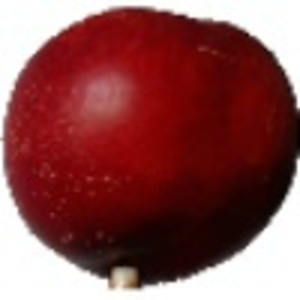nectarina: (2, 5, 300, 300)
